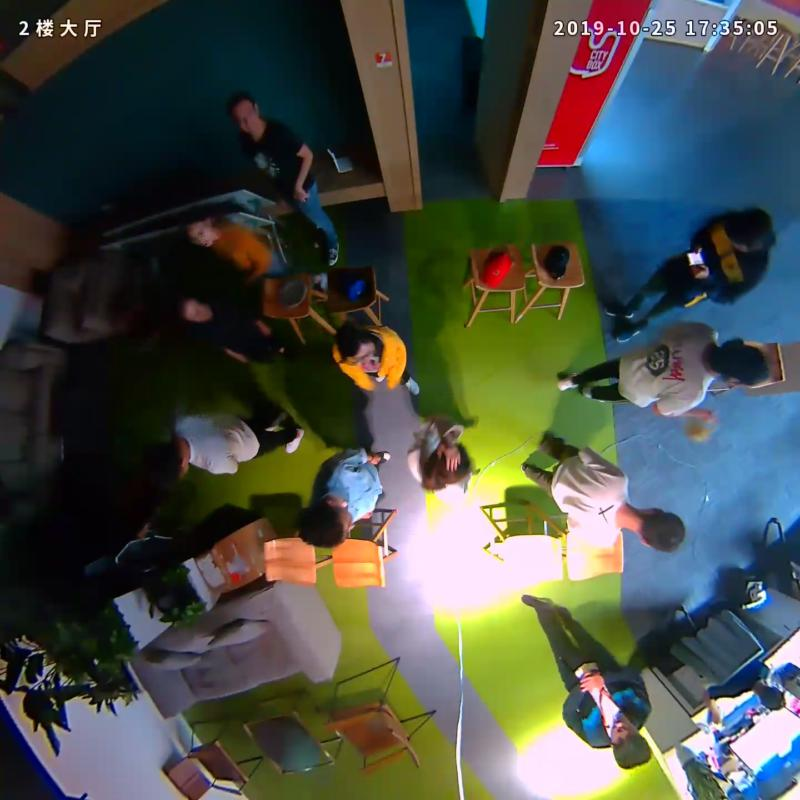head: (298, 497, 353, 546), (719, 335, 771, 386), (724, 206, 778, 253), (610, 713, 652, 770), (640, 507, 686, 554), (148, 439, 191, 489), (431, 439, 471, 486), (337, 321, 378, 366), (229, 92, 259, 136), (176, 297, 214, 325), (185, 215, 215, 246)
